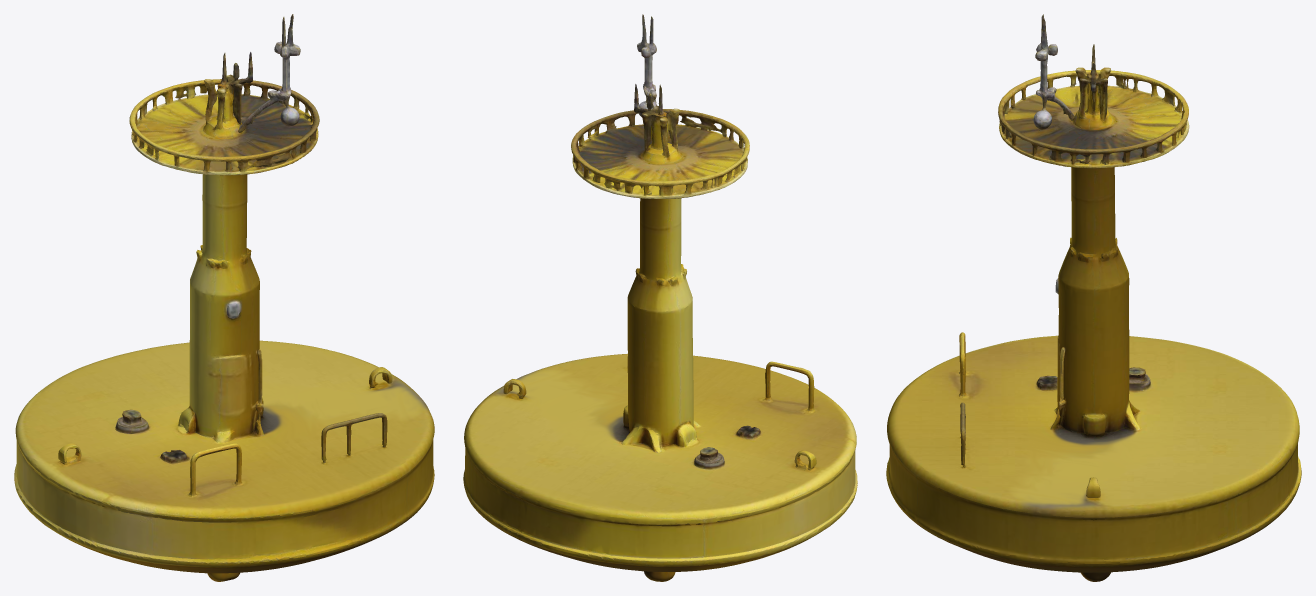
The model's file is bigbuoy.glb.
3 views of the same model, side by side, from view 1: azimuth 30°, elevation 25°; view 2: azimuth 150°, elevation 25°; view 3: azimuth 270°, elevation 25° (orthographic). The views are drawn at different scales.
Parts seen in each view (by area): view 1: bigbuoy; view 2: bigbuoy; view 3: bigbuoy.
Boxes of the visible parts, x1,y1,x2,y2 form: bigbuoy: (14,14,434,581); bigbuoy: (463,14,857,581); bigbuoy: (886,14,1301,581).
Size of the model in its own units: 0.6638 by 1 by 0.6478.
Materials: 1 (1 with a texture image).
